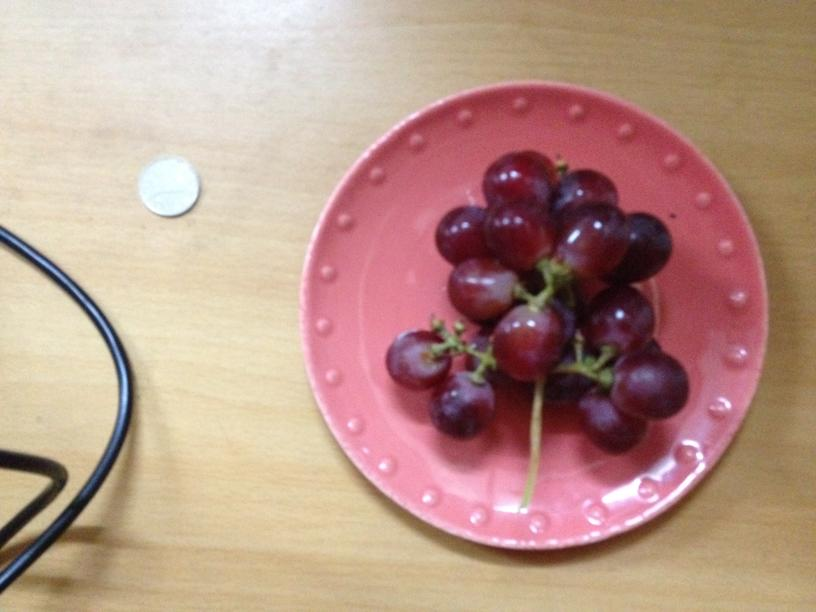coin: (137, 155, 199, 218)
grape: (383, 151, 690, 449)
